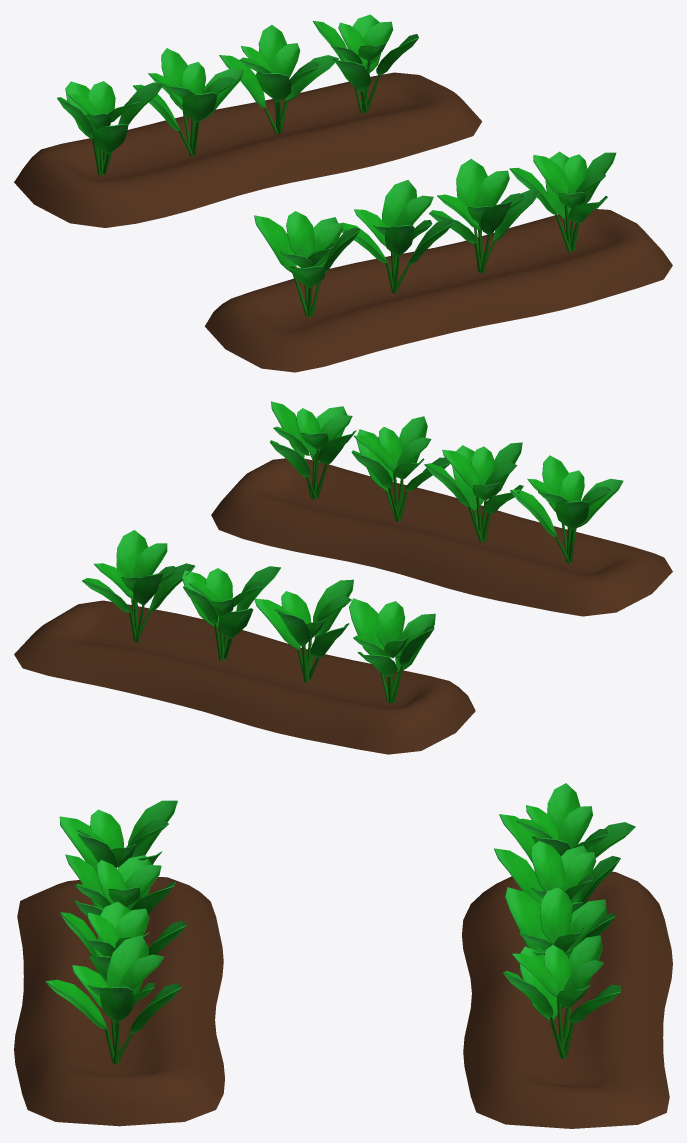
The model's file is Turnip3.fbx.
The picture shows the model from 3 angles, top to bottom: view 1: azimuth 30°, elevation 25°; view 2: azimuth 150°, elevation 25°; view 3: azimuth 270°, elevation 25°; orthographic projection. The views are drawn at different scales.
Parts seen in each view (by area): view 1: 3; view 2: 3; view 3: 3.
Part boxes in pixels (bbox=[...]): 3: bbox=[14, 14, 672, 372]; 3: bbox=[14, 401, 672, 754]; 3: bbox=[14, 783, 672, 1128].
Bounding box in the file's own units: 272 × 60.82 × 310.
